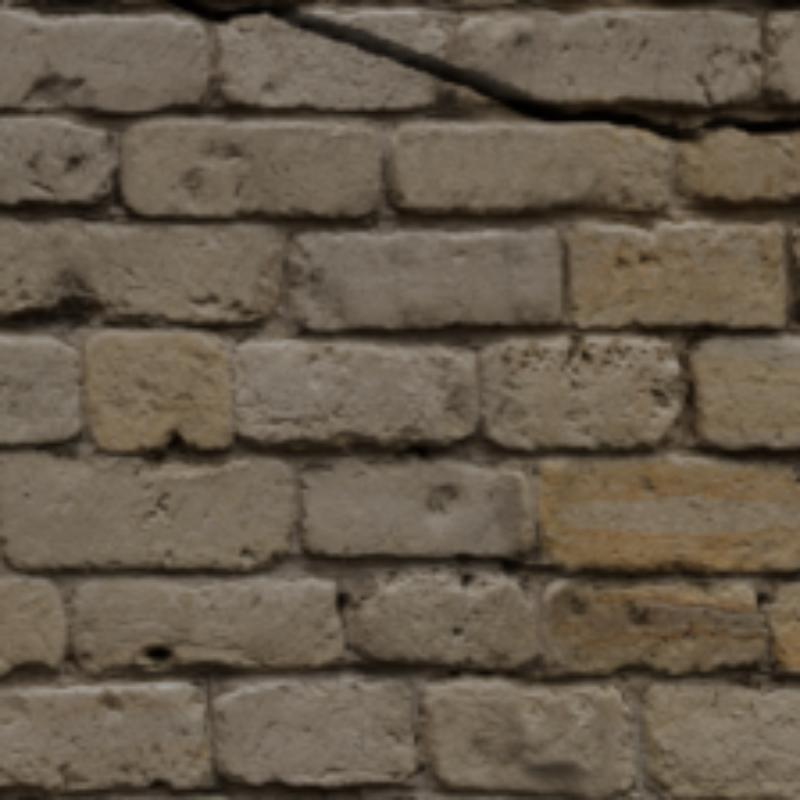pothole: (168, 0, 796, 139)
